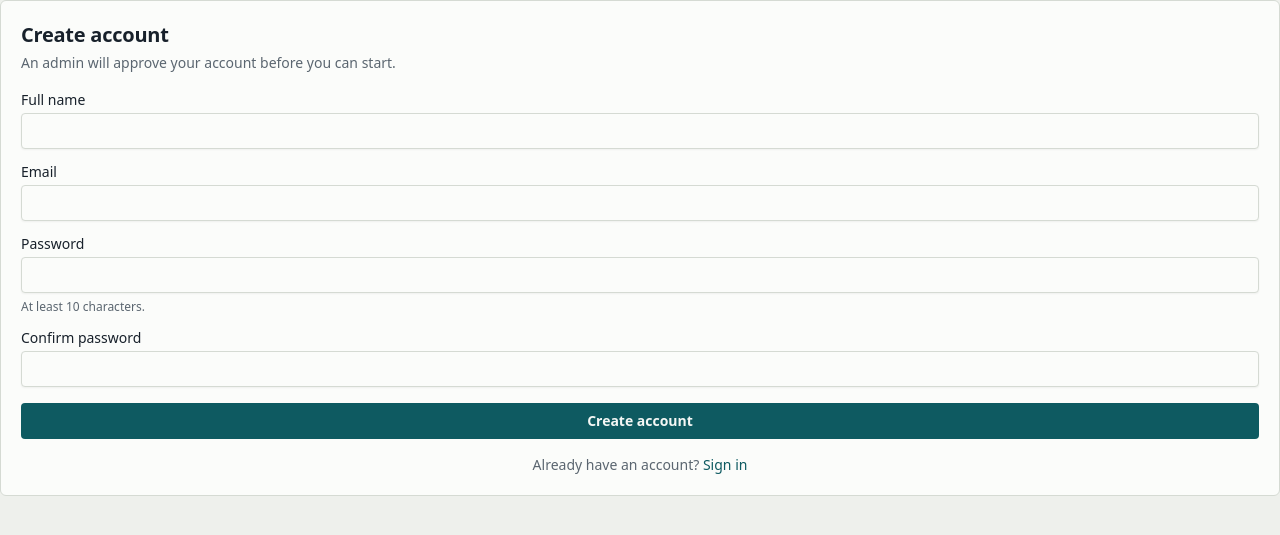
Test: RegisterPage › shows "email already taken" next to the email field
In the field labelled "Full name": [640, 131] box top-left (21, 113), bottom-right (1259, 149), type "New Person"
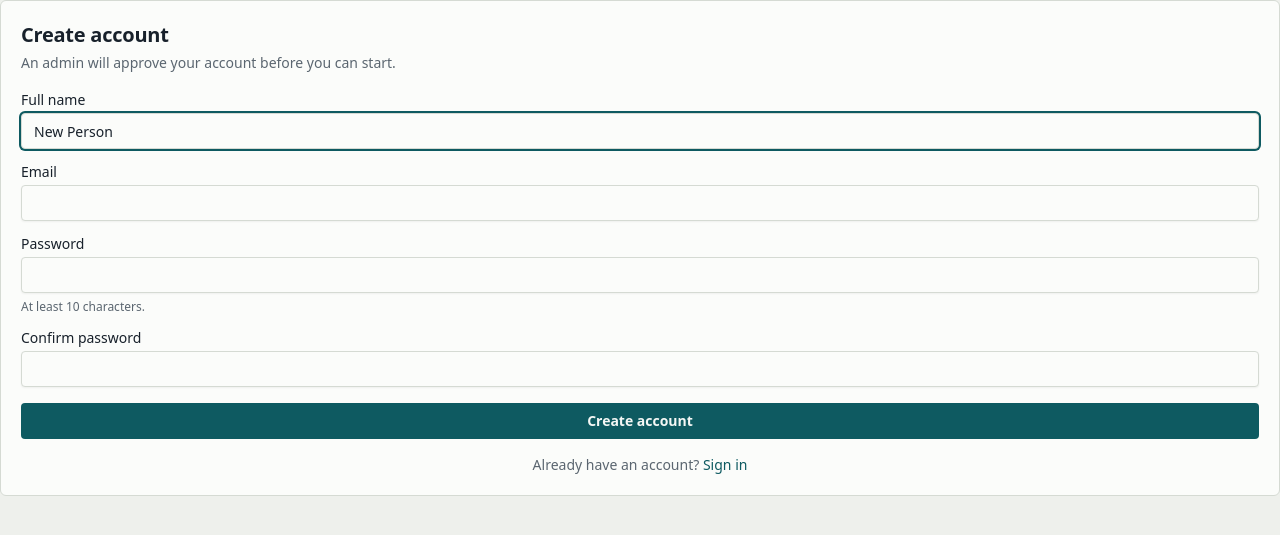
In the field labelled "Email": [640, 203] box top-left (21, 185), bottom-right (1259, 221), type "new@example.com"
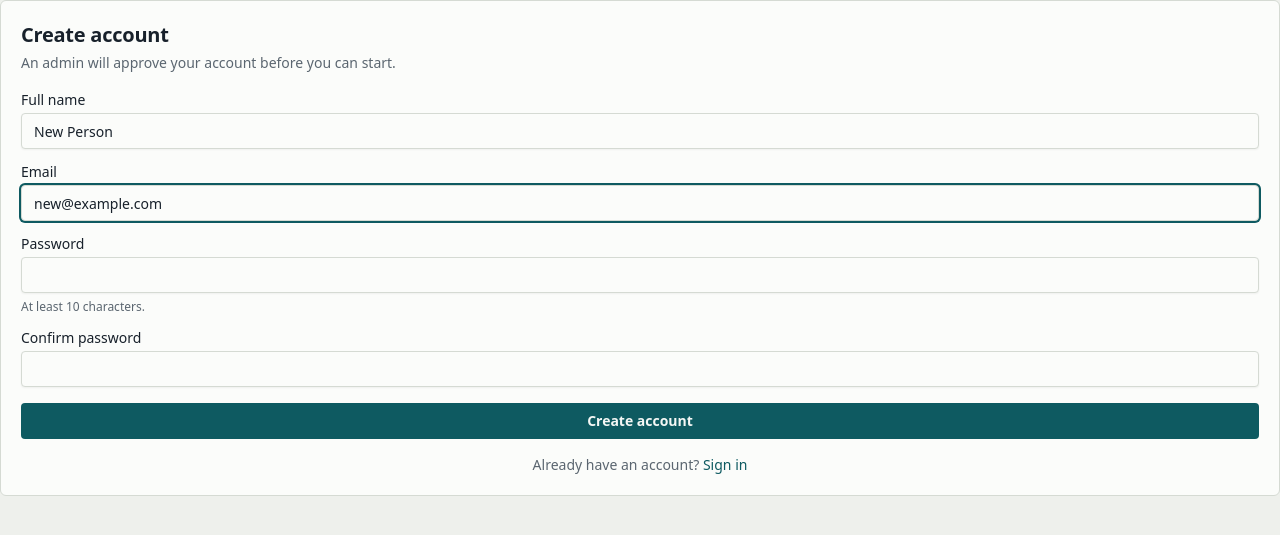
In the password field labelled "Password": [640, 275] box top-left (21, 257), bottom-right (1259, 293), type "a-strong-password"
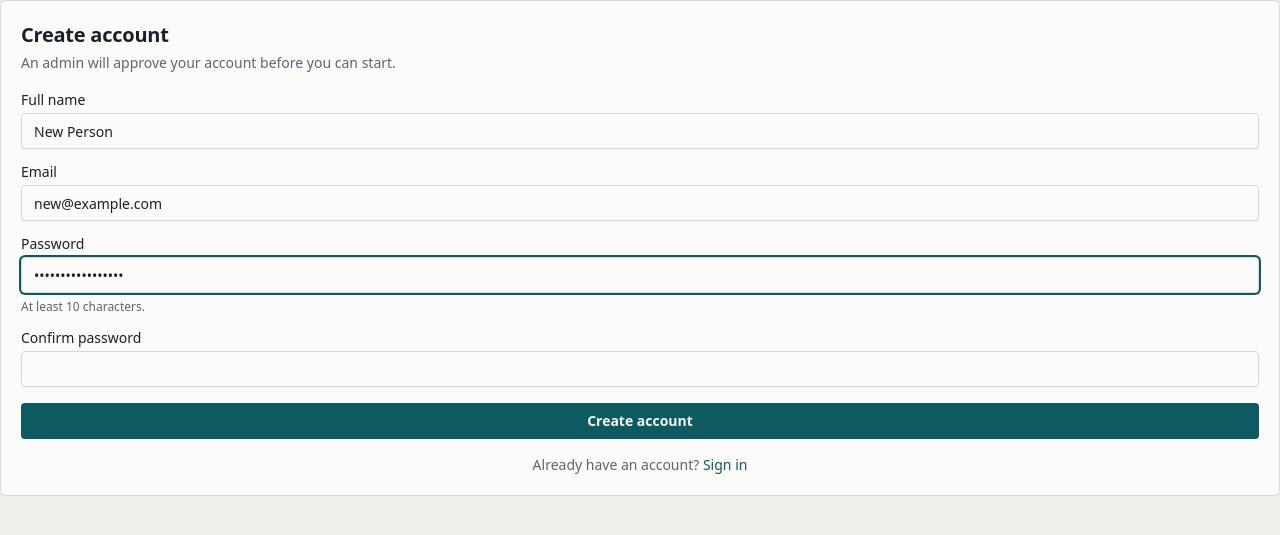
In the password field labelled "Confirm password": [640, 369] box top-left (21, 351), bottom-right (1259, 387), type "a-strong-password"
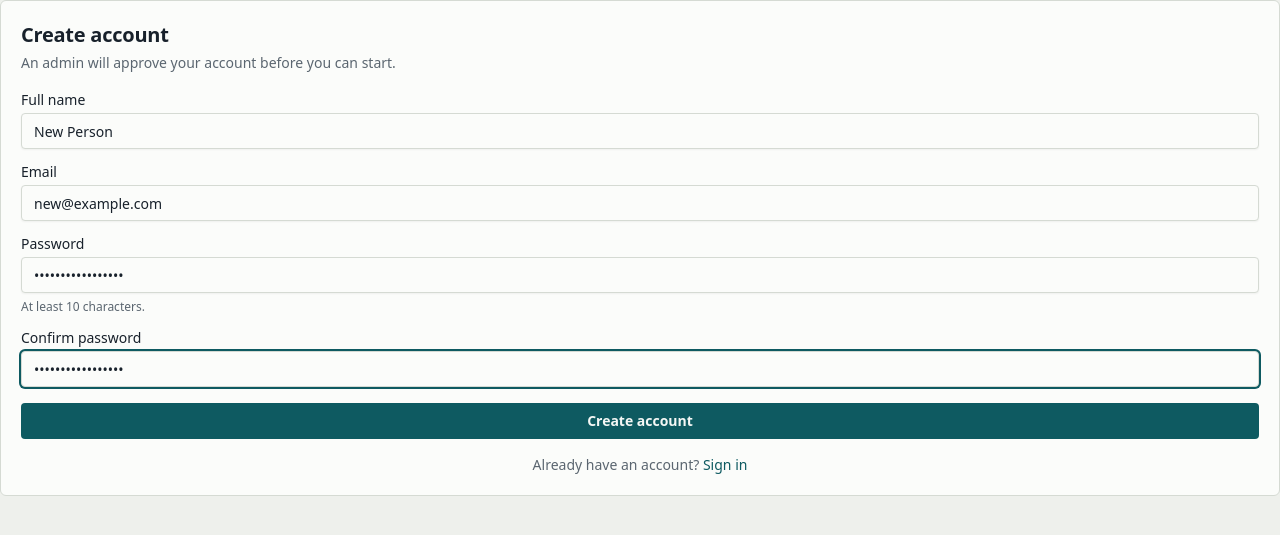
Click the button "Create account": [640, 421] box top-left (21, 403), bottom-right (1259, 439)
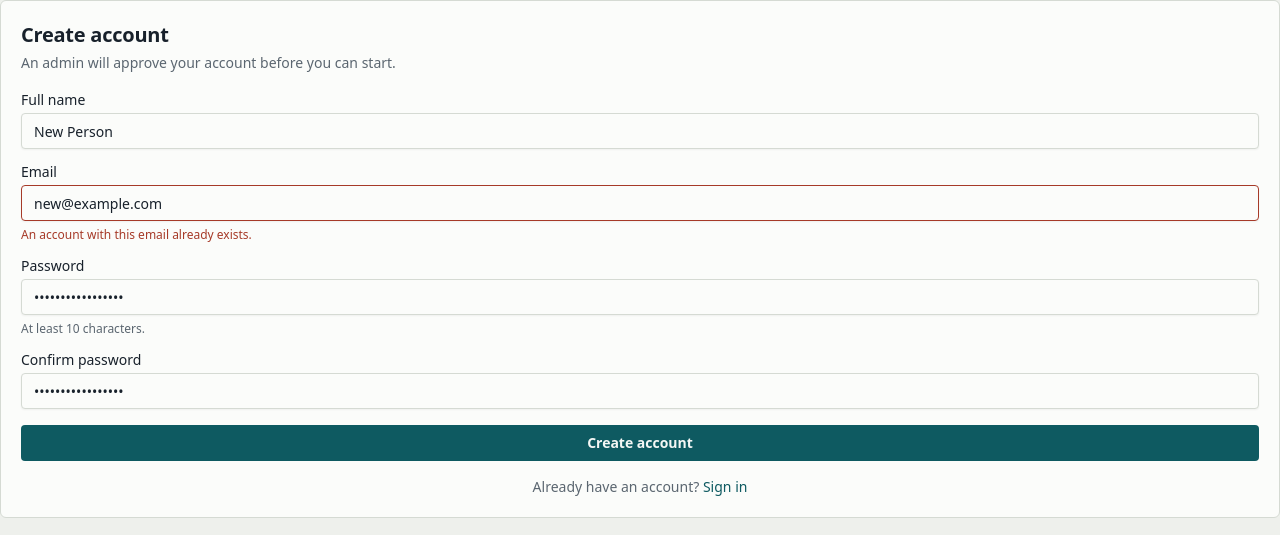
Check: the text "An account with this email already exists." is shown, box top-left (21, 226), bottom-right (252, 243)
